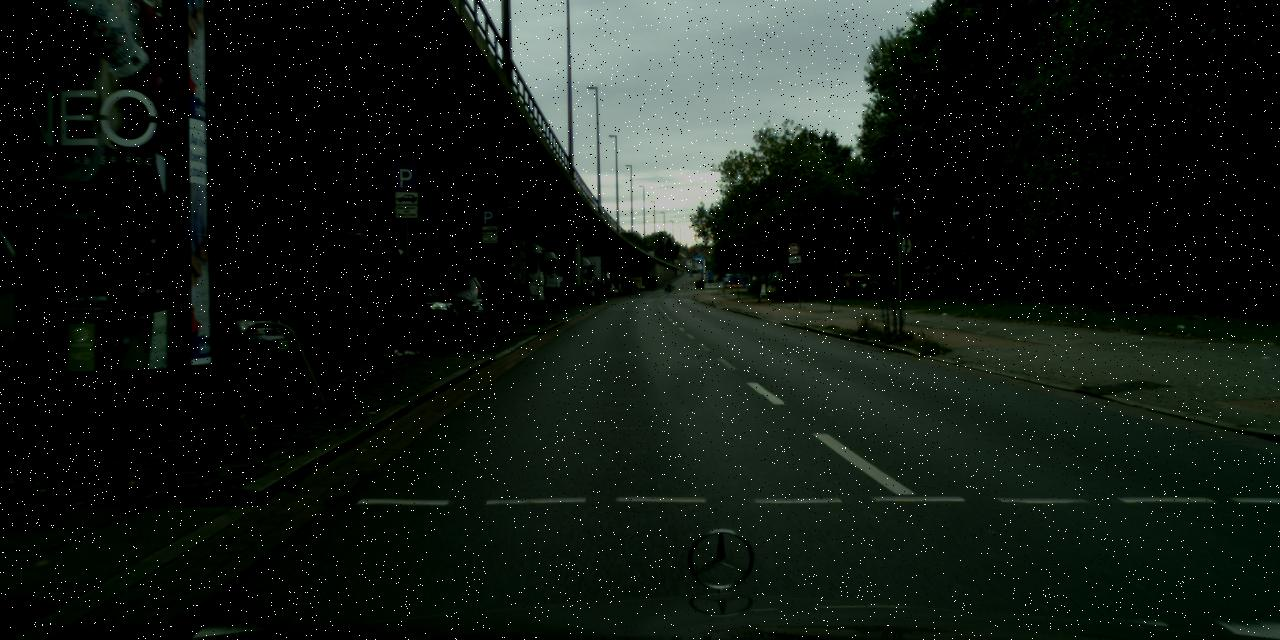ped: (582, 276, 604, 306), (668, 281, 672, 291)
